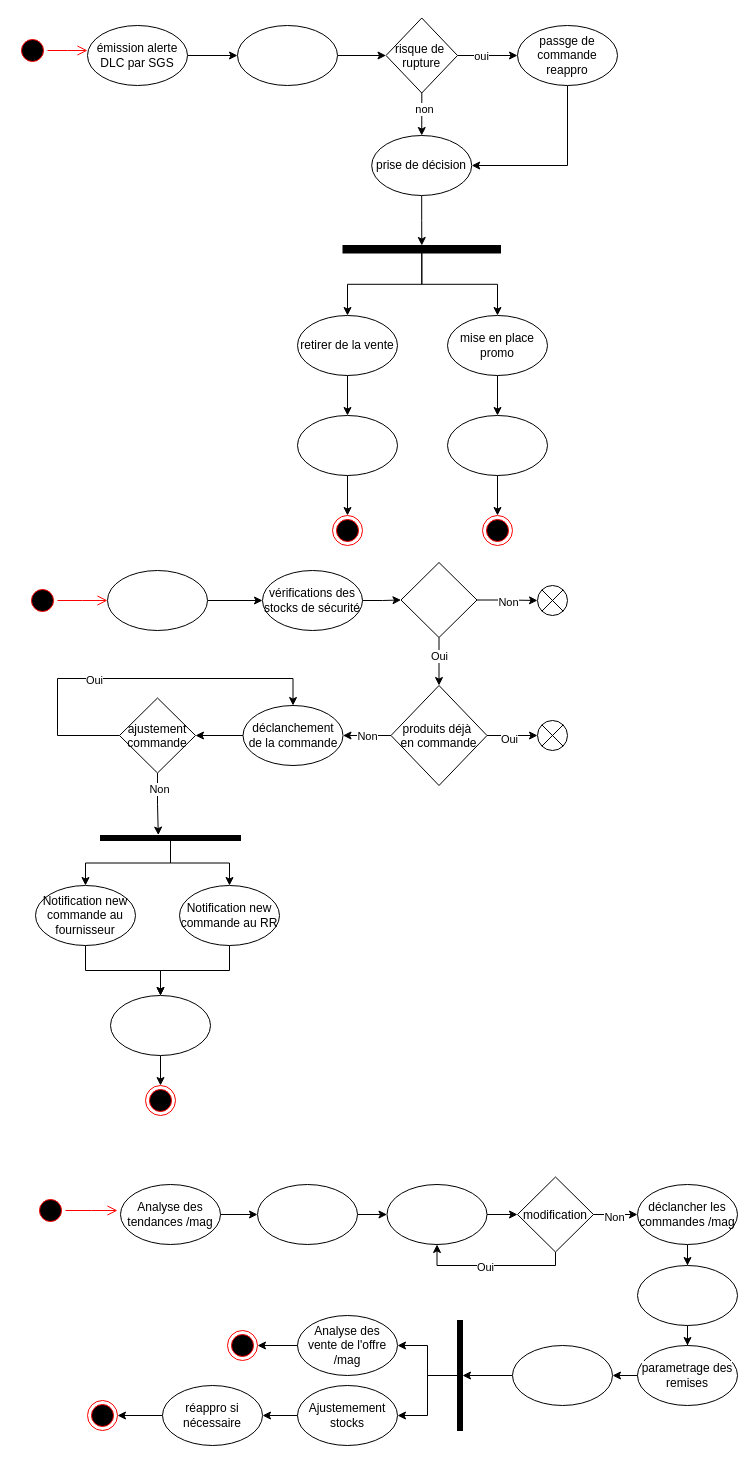
This 755x1463 diagram has some shape labels left out. The centre of each missing label's shape, as x and y in pixels:
"consultation alertes" belongs at [287,55].
"Consultation état livraison" belongs at [160,1025].
"consultations des stocks par le SGS" belongs at [157,600].
"création de l'offre sur période" belongs at [307,1214].
"démarquer produits" belongs at [347,445].
"démarrage offre promo" belongs at [562,1375].
"notifier clients" belongs at [497,445].
"Notifier magasins de l'offre" belongs at [687,1295].
"SS atteint" belongs at [438,600].
"validation de l'offre" belongs at [436,1214].
